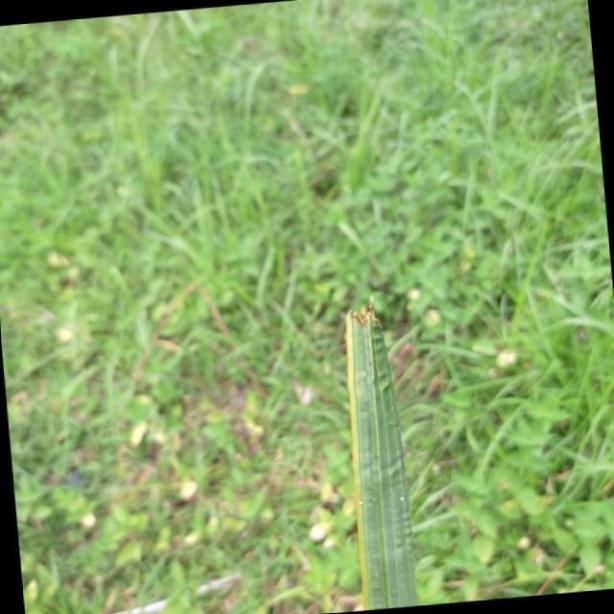Boron: (342, 300, 419, 614)
